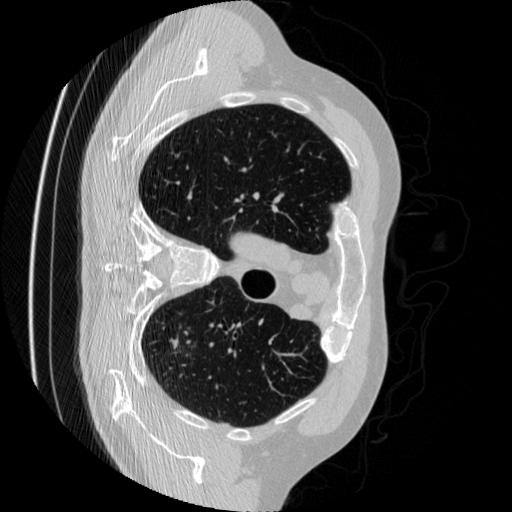nodule: (169, 338, 183, 352)
